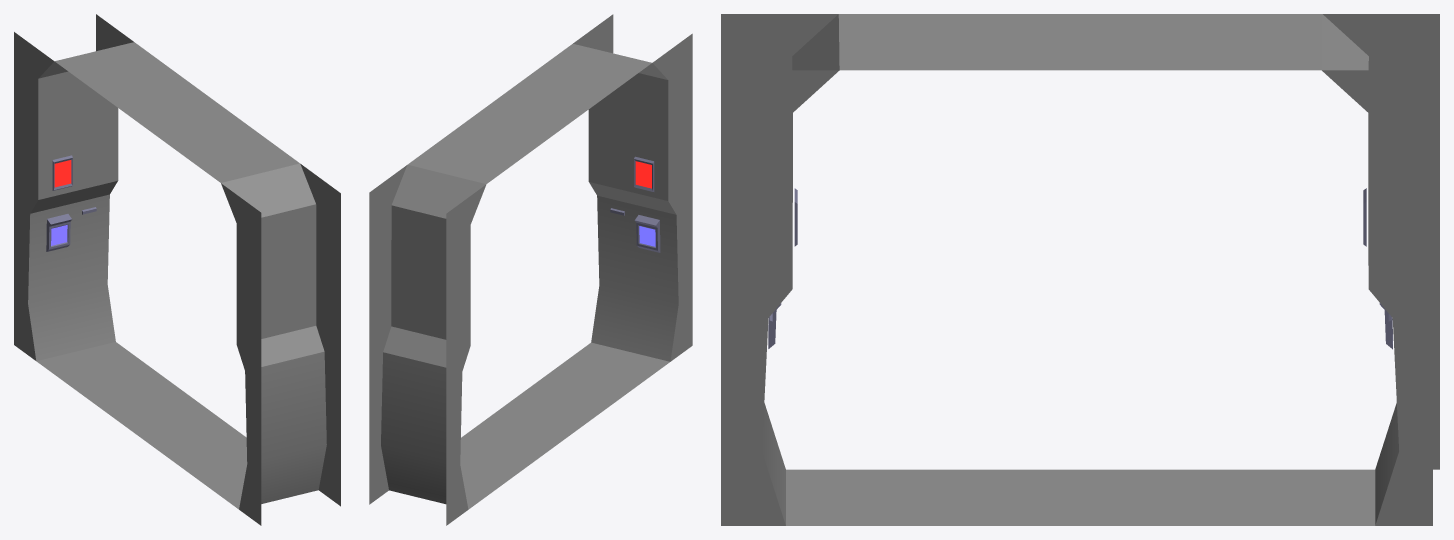
File: Cor3.fbx
The picture shows the model from 3 angles, left to right: view 1: azimuth 30°, elevation 25°; view 2: azimuth 150°, elevation 25°; view 3: azimuth 270°, elevation 25°; orthographic projection. The views are drawn at different scales.
Visible parts, largest first — view 1: Cube.043; view 2: Cube.043; view 3: Cube.043.
Boxes of the visible parts, x1,y1,x2,y2 form: Cube.043: (14,14,340,525); Cube.043: (369,14,692,525); Cube.043: (721,14,1439,525).
Size of the model in its own units: 79.79 by 300 by 429.
